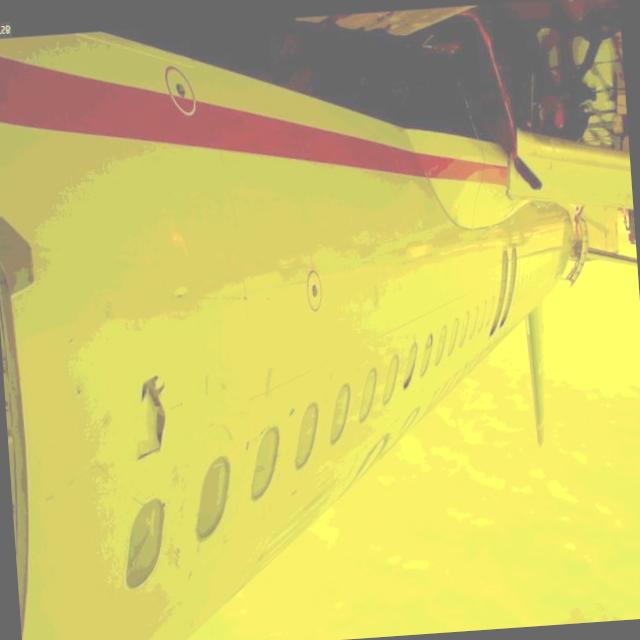crack: (118, 364, 175, 472)
